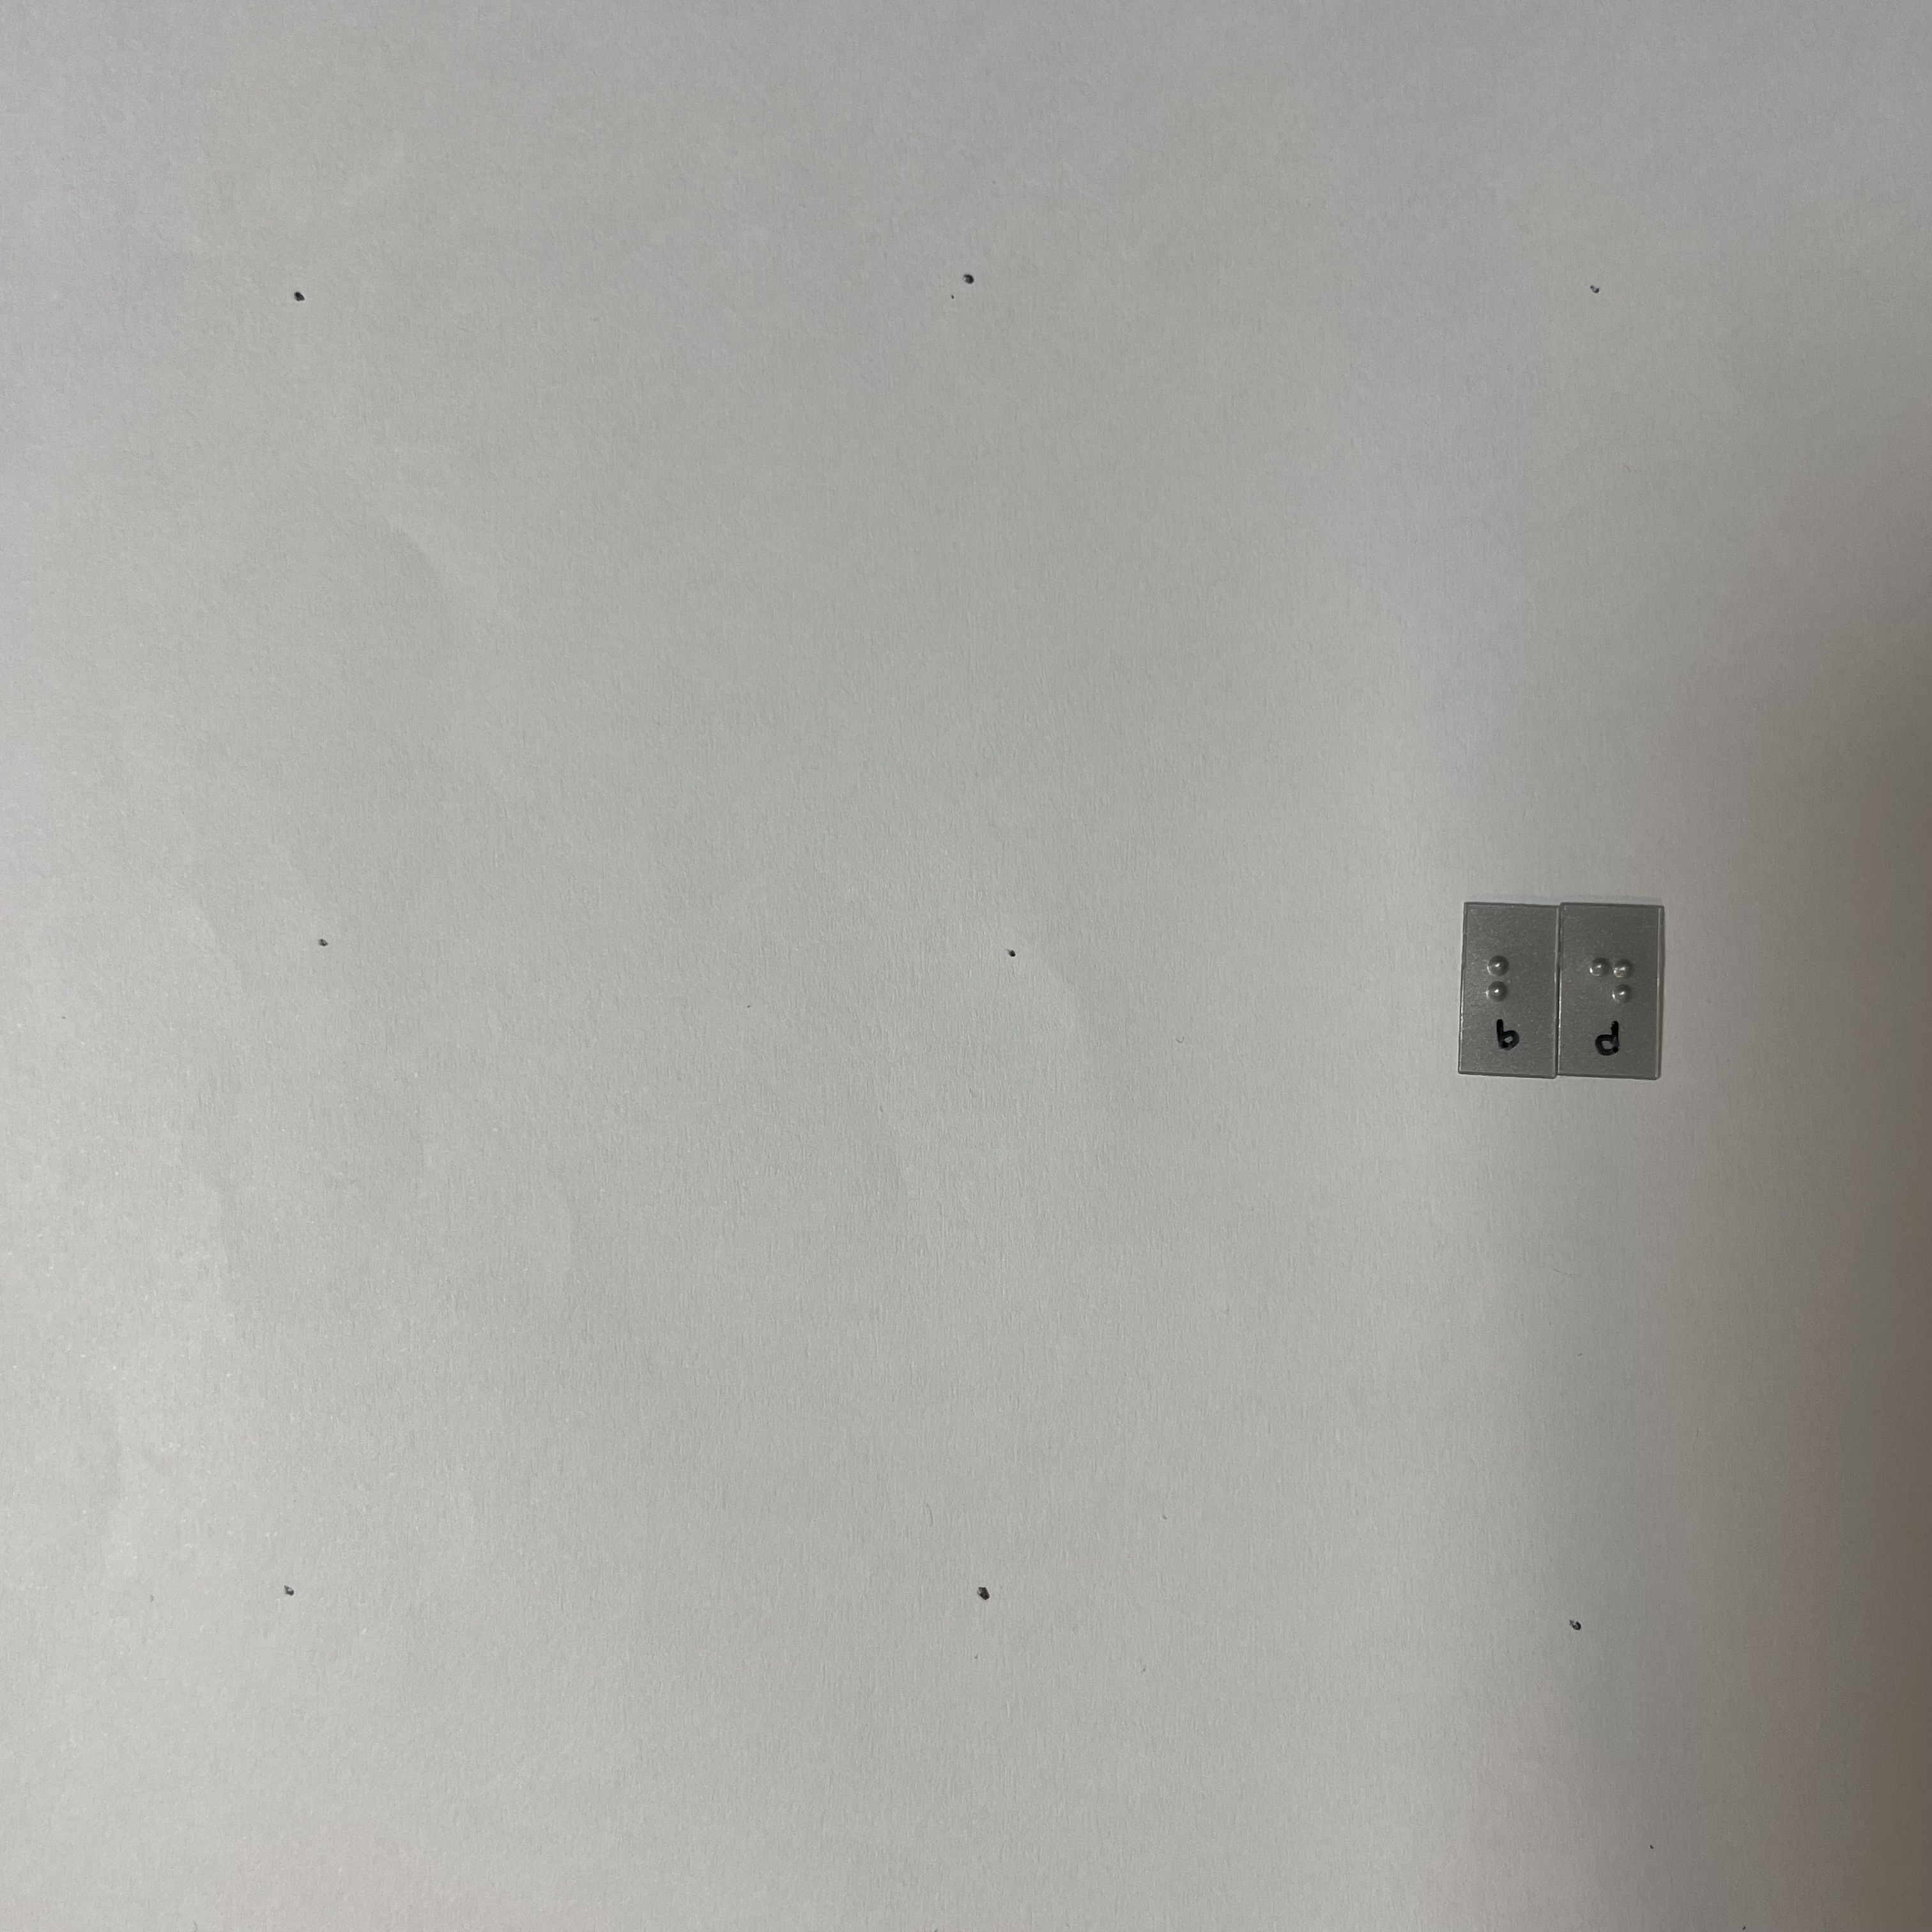b: (1483, 945, 1538, 1029)
d: (1580, 945, 1635, 1029)
